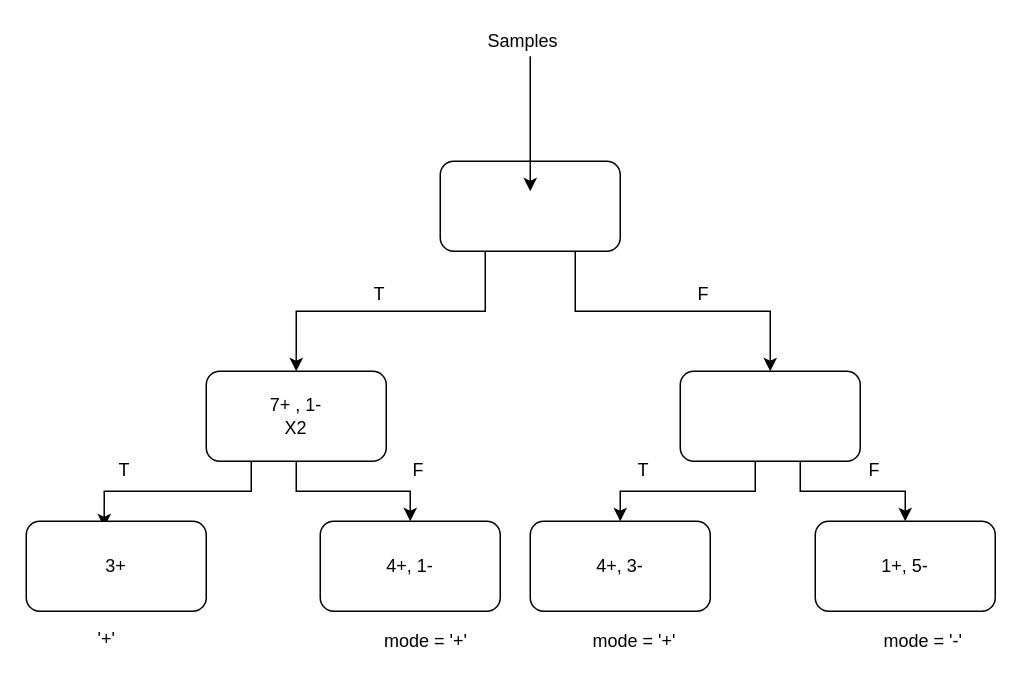
This 1022x681 diagram has some shape labels left out. The centre of each missing label's shape, as x and y in pixels:
"5+, 8- X2" belongs at point 769,415.
"X1" belongs at point 529,205.
